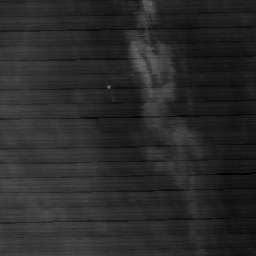Target: (105, 84, 112, 91)
